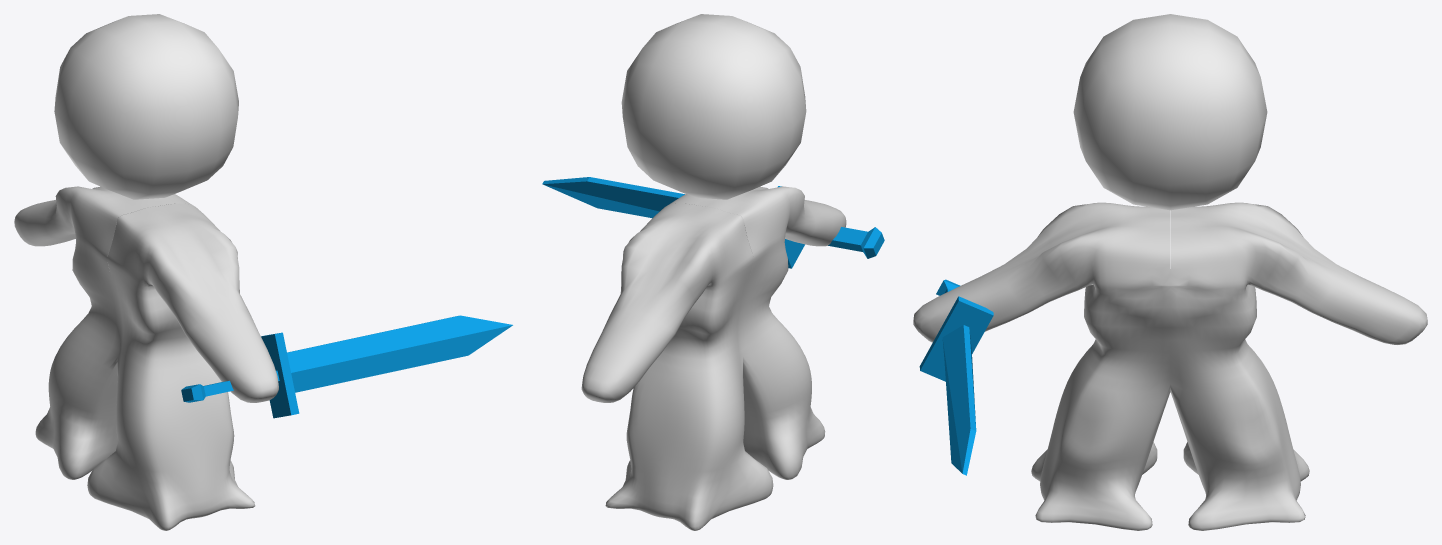
The model's file is Cara仮.fbx.
3 views of the same model, side by side, from view 1: azimuth 30°, elevation 25°; view 2: azimuth 150°, elevation 25°; view 3: azimuth 270°, elevation 25° (orthographic). The views are drawn at different scales.
Visible parts, largest first — view 1: 立方体, Cube, 立方体.001; view 2: 立方体, Cube, 立方体.001; view 3: 立方体, Cube, 立方体.001.
Part boxes in pixels (left/top/right/bottom): 立方体: left=14, top=186, right=278, bottom=530; Cube: left=54, top=14, right=238, bottom=199; 立方体.001: left=181, top=315, right=512, bottom=418; 立方体: left=581, top=186, right=846, bottom=530; Cube: left=621, top=14, right=806, bottom=199; 立方体.001: left=542, top=177, right=884, bottom=268; 立方体: left=913, top=202, right=1427, bottom=530; Cube: left=1073, top=14, right=1267, bottom=210; 立方体.001: left=919, top=279, right=993, bottom=475.
Size of the model in its own units: 248 by 204 by 256.
